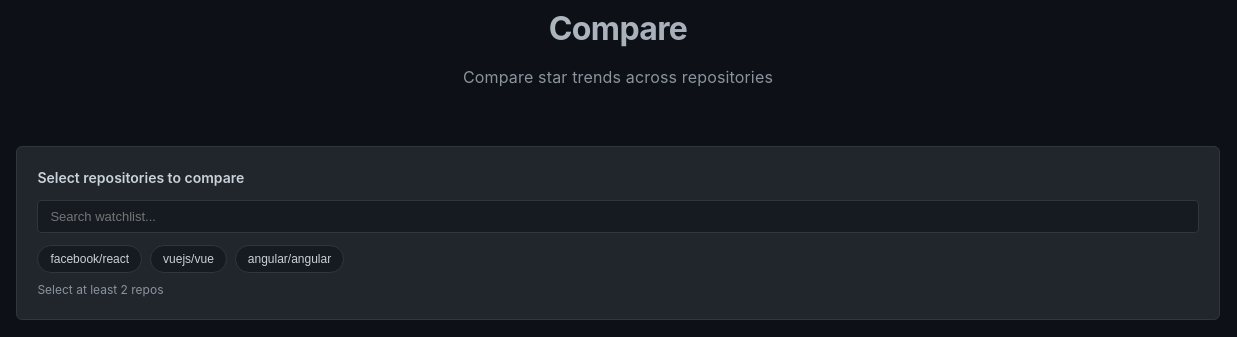
Compare › toggles repo selection on chip click
Step 1. Click the button "facebook/react" → (90, 259), box [37,245,142,273]
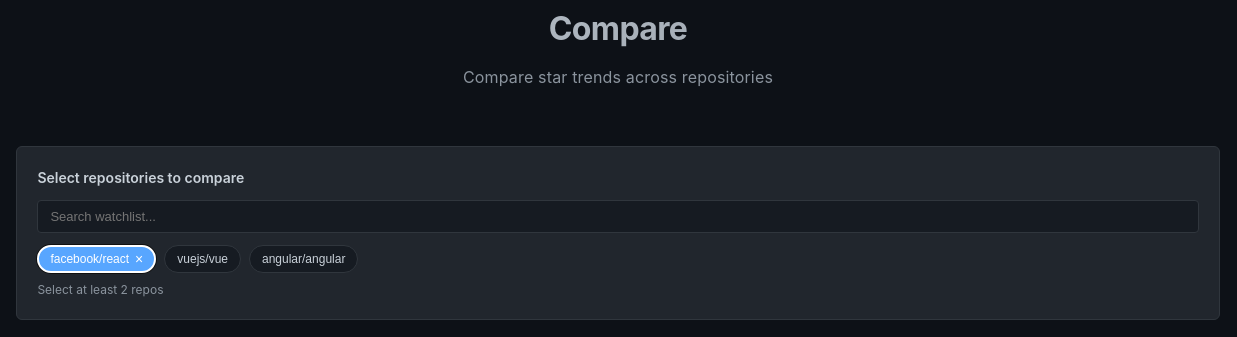
Expected: the text "×" is shown, [135,252,143,266]
